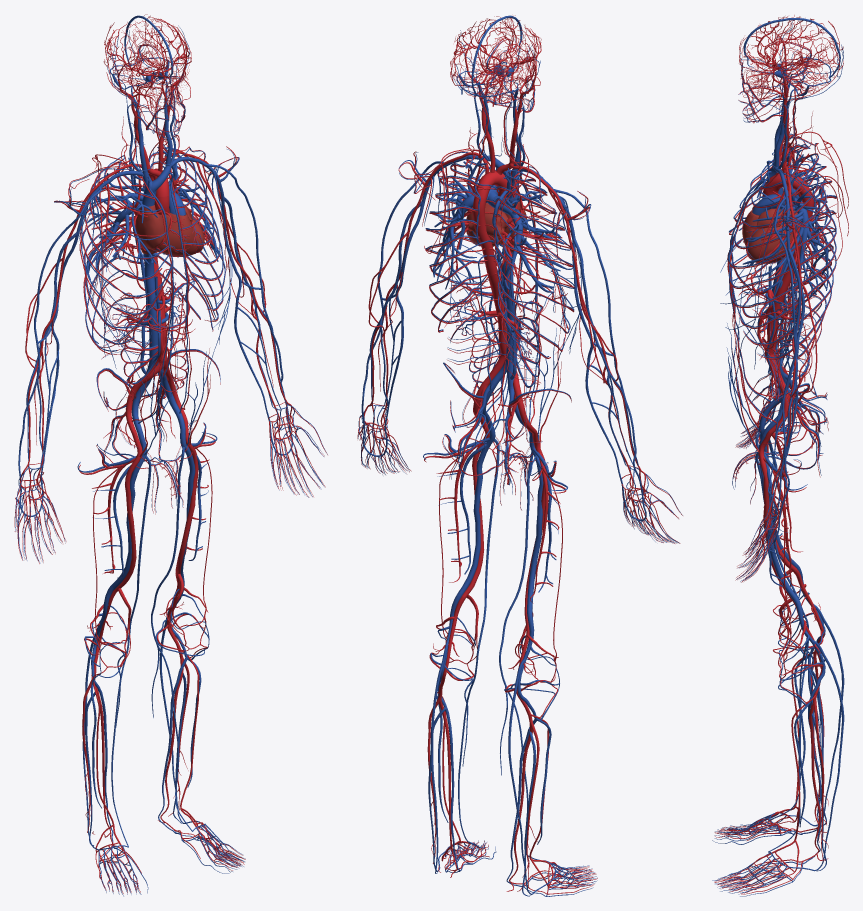
The model's file is circulatory_system.glb.
The picture shows the model from 3 angles, left to right: view 1: azimuth 30°, elevation 25°; view 2: azimuth 150°, elevation 25°; view 3: azimuth 270°, elevation 25°; orthographic projection. The views are drawn at different scales.
Visible parts, largest first — view 1: Right superior intercostal vein, Posterior intercostal arteries (right), Left superior intercostal vein, Great saphenous vein (left), Great saphenous vein (right), Right atrium, Right ventricle, Posterior intercostal arteries (left), Femoral artery (right), Cephalic vein (right), Femoral artery (left), Cephalic vein (left) (+2 smaller); view 2: Posterior intercostal arteries (right), Right superior intercostal vein, Left superior intercostal vein, Posterior intercostal arteries (left), Great saphenous vein (left), Great saphenous vein (right), Femoral vein (left), Femoral vein (right), Cephalic vein (right), Thoracic aorta, Basilic vein (right), Basilic vein (left) (+4 smaller); view 3: Left superior intercostal vein, Posterior intercostal arteries (left), Cephalic vein (left), Right superior intercostal vein, Left ventricle, Small saphenous vein (left), Femoral artery (left), Great saphenous vein (right), Abdominal aorta, Small saphenous vein (right), Great saphenous vein (left), Posterior intercostal arteries (right) (+24 smaller).
Part boxes in pixels (bbox=[...]): Right superior intercostal vein: bbox=[81, 155, 172, 351]; Posterior intercostal arteries (right): bbox=[79, 163, 169, 354]; Left superior intercostal vein: bbox=[144, 147, 225, 330]; Great saphenous vein (left): bbox=[151, 446, 192, 831]; Great saphenous vein (right): bbox=[111, 455, 151, 846]; Right atrium: bbox=[135, 205, 170, 254]; Right ventricle: bbox=[155, 211, 197, 256]; Posterior intercostal arteries (left): bbox=[149, 153, 225, 331]; Femoral artery (right): bbox=[115, 431, 142, 590]; Cephalic vein (right): bbox=[18, 187, 101, 488]; Femoral artery (left): bbox=[175, 418, 198, 575]; Cephalic vein (left): bbox=[202, 162, 289, 422]; Posterior intercostal arteries (right): bbox=[478, 187, 574, 358]; Right superior intercostal vein: bbox=[492, 170, 574, 357]; Left superior intercostal vein: bbox=[425, 156, 502, 331]; Posterior intercostal arteries (left): bbox=[426, 177, 501, 332]; Great saphenous vein (left): bbox=[458, 439, 499, 845]; Great saphenous vein (right): bbox=[499, 451, 539, 859]; Femoral vein (left): bbox=[458, 423, 495, 594]; Femoral vein (right): bbox=[527, 435, 543, 609]; Cephalic vein (right): bbox=[554, 189, 643, 496]; Thoracic aorta: bbox=[472, 196, 497, 275]; Basilic vein (right): bbox=[572, 239, 622, 483]; Basilic vein (left): bbox=[384, 202, 424, 426]; Left superior intercostal vein: bbox=[729, 163, 836, 358]; Posterior intercostal arteries (left): bbox=[729, 175, 836, 359]; Cephalic vein (left): bbox=[774, 197, 796, 519]; Right superior intercostal vein: bbox=[729, 144, 836, 304]; Left ventricle: bbox=[748, 224, 793, 263]; Small saphenous vein (left): bbox=[803, 640, 844, 871]; Femoral artery (left): bbox=[759, 431, 793, 601]; Great saphenous vein (right): bbox=[755, 432, 820, 820]; Abdominal aorta: bbox=[764, 266, 793, 354]; Small saphenous vein (right): bbox=[803, 604, 844, 826]; Great saphenous vein (left): bbox=[755, 452, 820, 851]; Posterior intercostal arteries (right): bbox=[729, 153, 836, 308].
Size of the model in its own units: 0.664 by 1.7 by 0.2489.
